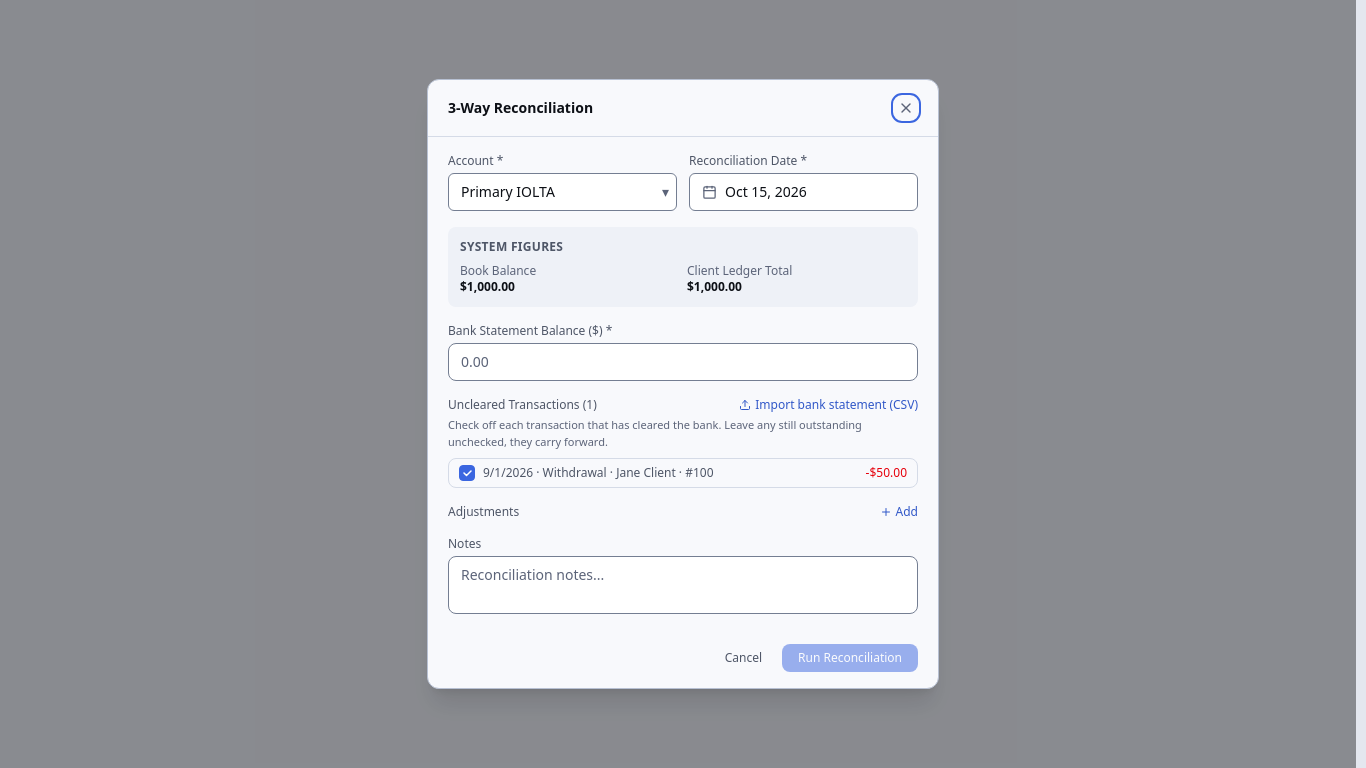
Test: the outstanding-transaction sign › shows a discrepancy, not In Balance, when the sign would otherwise be flipped
The width and height of the screenshot is (1366, 768).
Check: the text "Book Balance" is shown, box [460,262,536,279]
Click the checkbox.
click(683, 473)  # box [449,459,917,487]
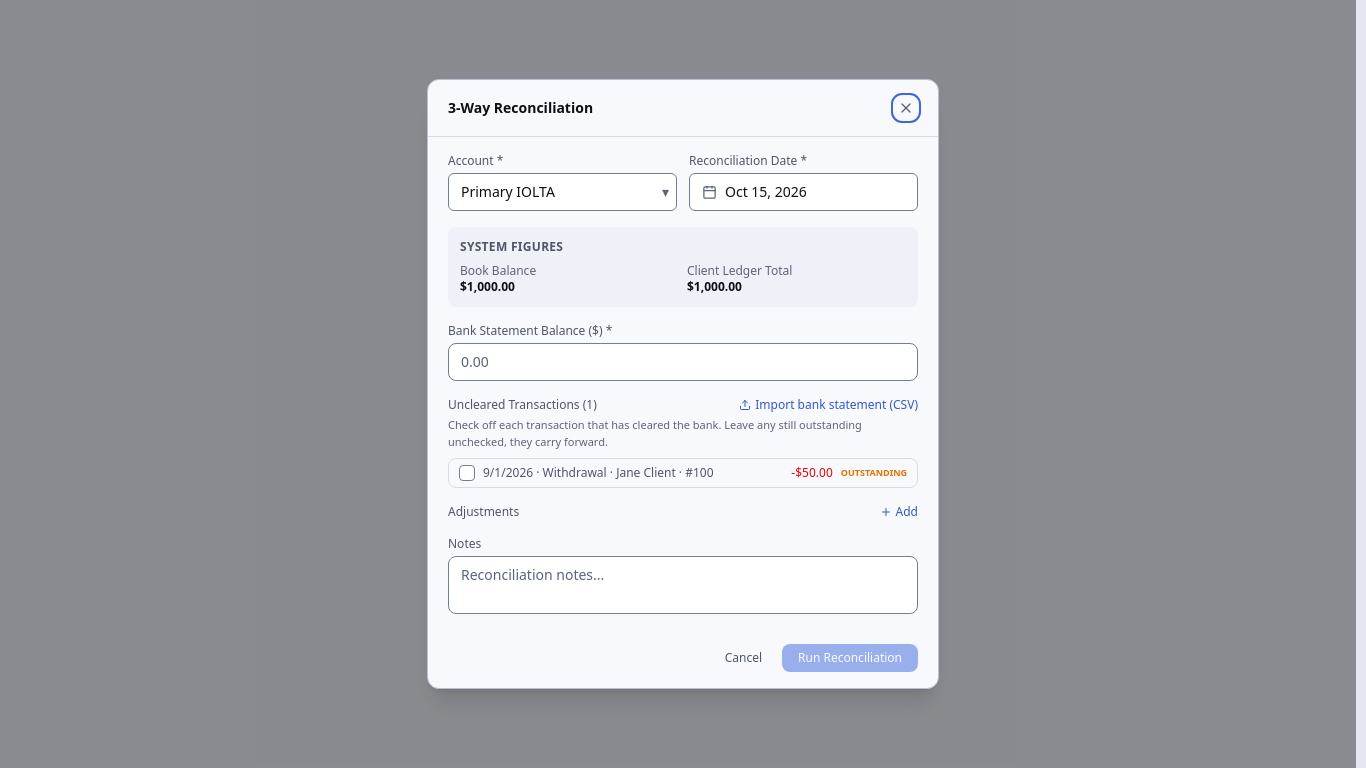
Type "950.00" into the number field labelled "Bank Statement Balance ($) *".
click(683, 362); type("950.00")  # box [448,343,918,381]
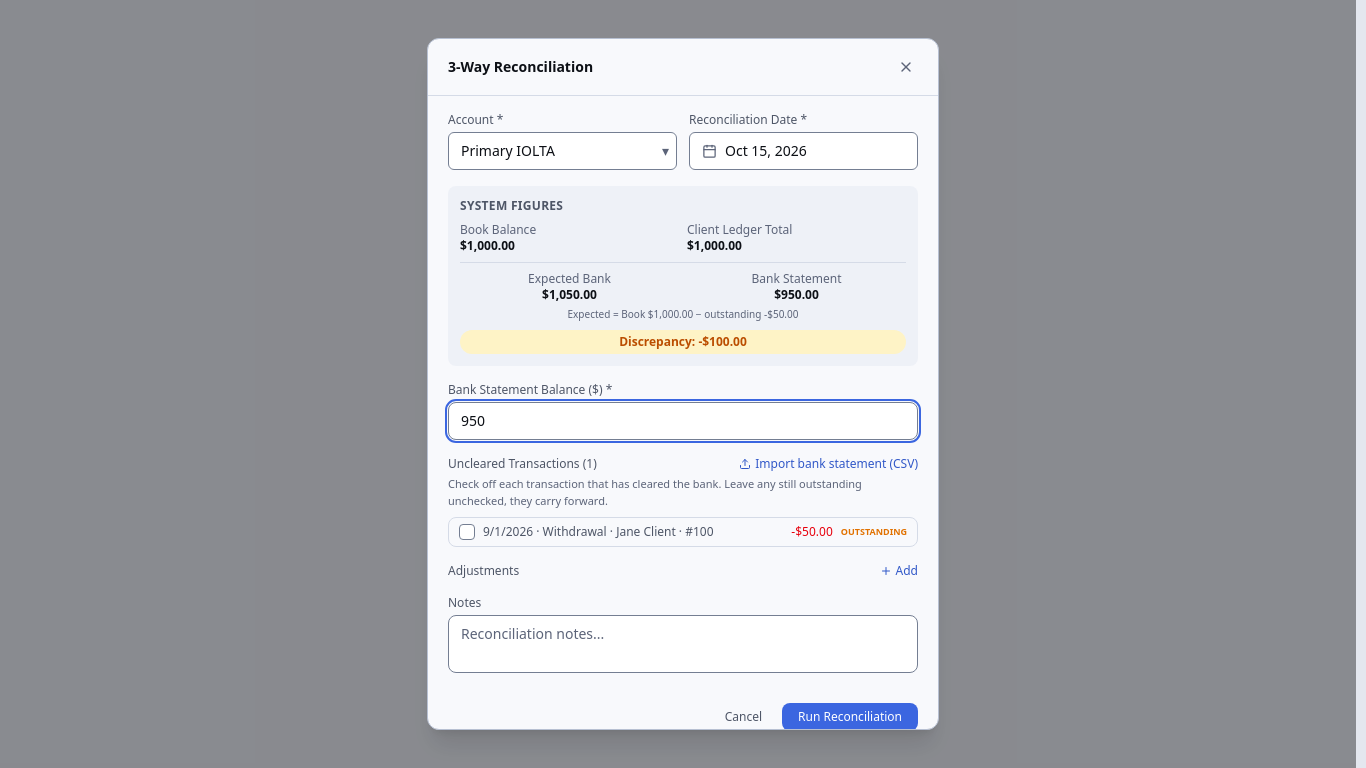
Check: the text "Discrepancy: -$100.00" is shown, box [460,330,906,354]
